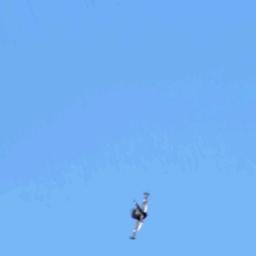Airplane: (128, 189, 152, 240)
